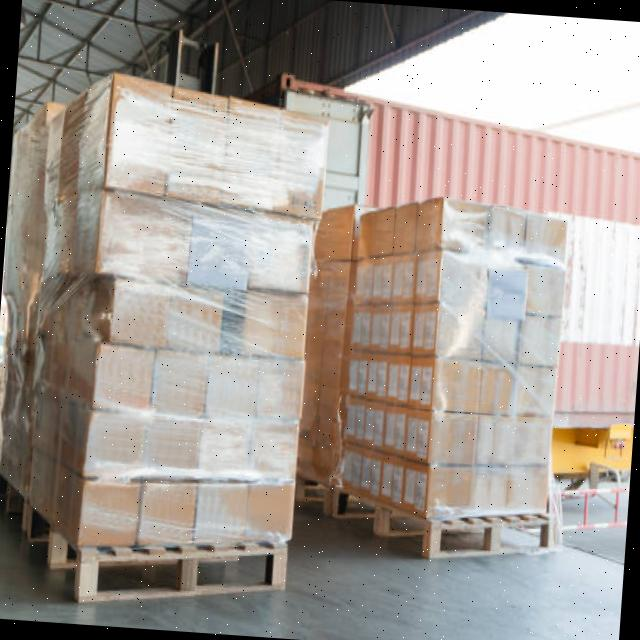Wooden-Pallets: (325, 478, 553, 563), (71, 542, 291, 612)
